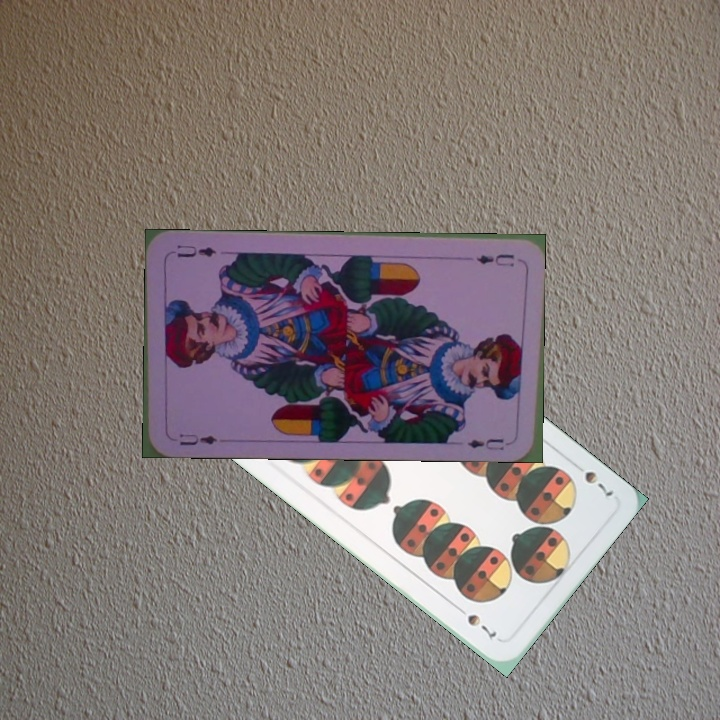EU: (175, 429, 220, 448), (472, 250, 517, 268)
S7: (567, 457, 616, 499)
